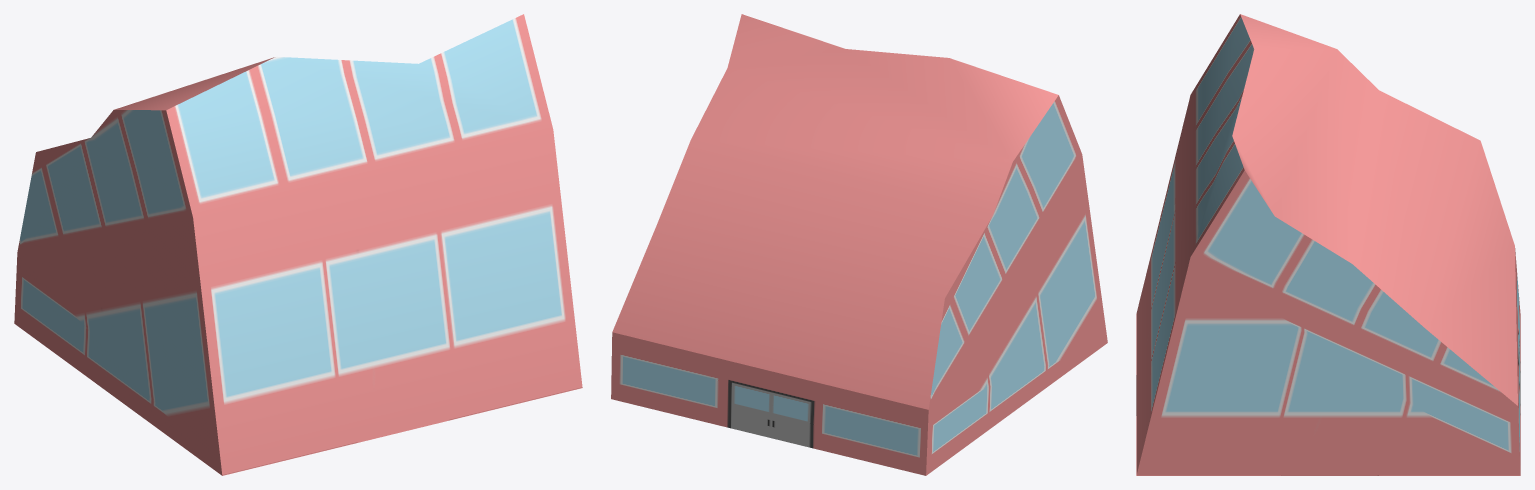
File: Gedung_B.fbx
3 views of the same model, side by side, from view 1: azimuth 30°, elevation 25°; view 2: azimuth 150°, elevation 25°; view 3: azimuth 270°, elevation 25° (orthographic). The views are drawn at different scales.
Visible parts, largest first — view 1: Gedung_B; view 2: Gedung_B; view 3: Gedung_B.
Part boxes in pixels (left/top/right/bottom): Gedung_B: left=14, top=14, right=582, bottom=475; Gedung_B: left=611, top=14, right=1107, bottom=475; Gedung_B: left=1136, top=14, right=1520, bottom=475.
Size of the model in its own units: 892 by 814 by 892.
